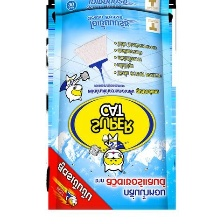cleaning_solution: (40, 0, 180, 214)
